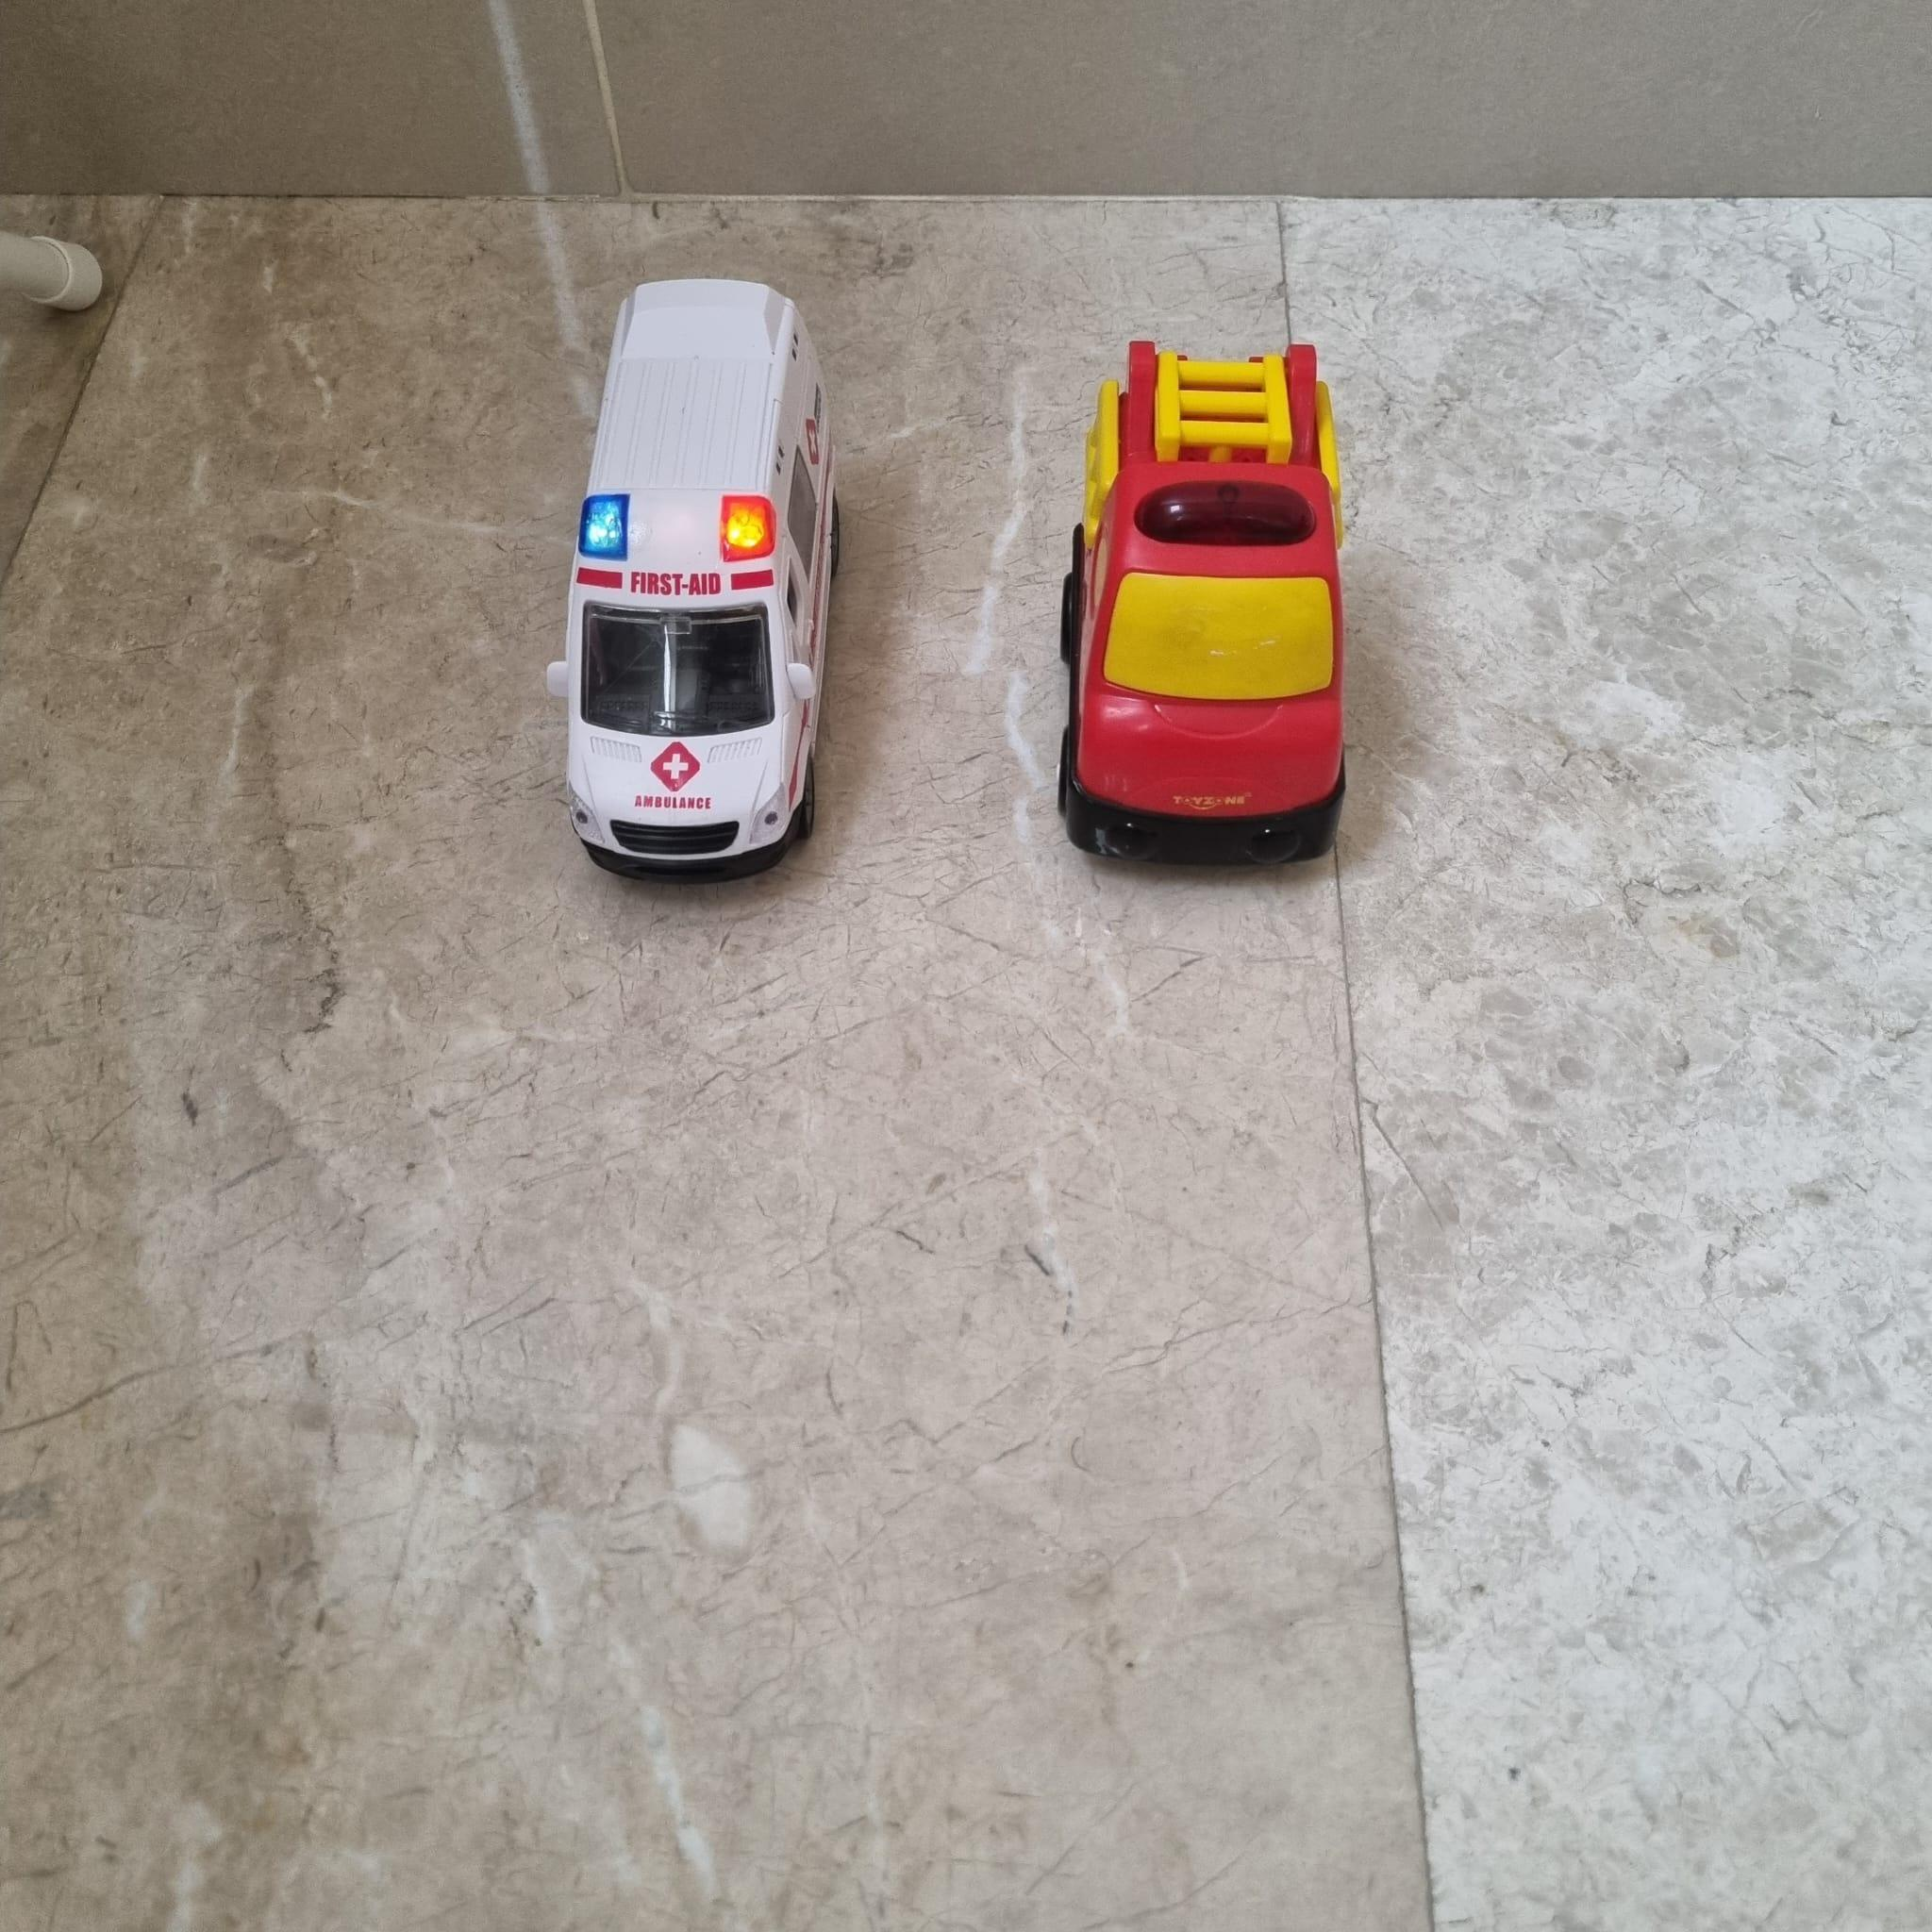ambulance_on: (543, 281, 839, 883)
firetruck_off: (1058, 338, 1345, 870)
